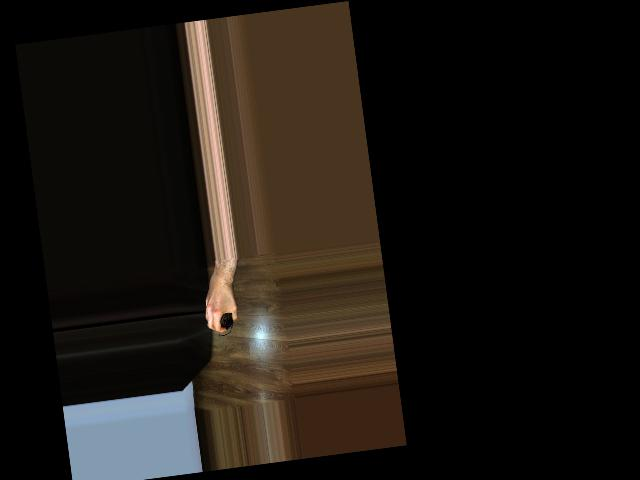beet: (215, 312, 235, 337)
